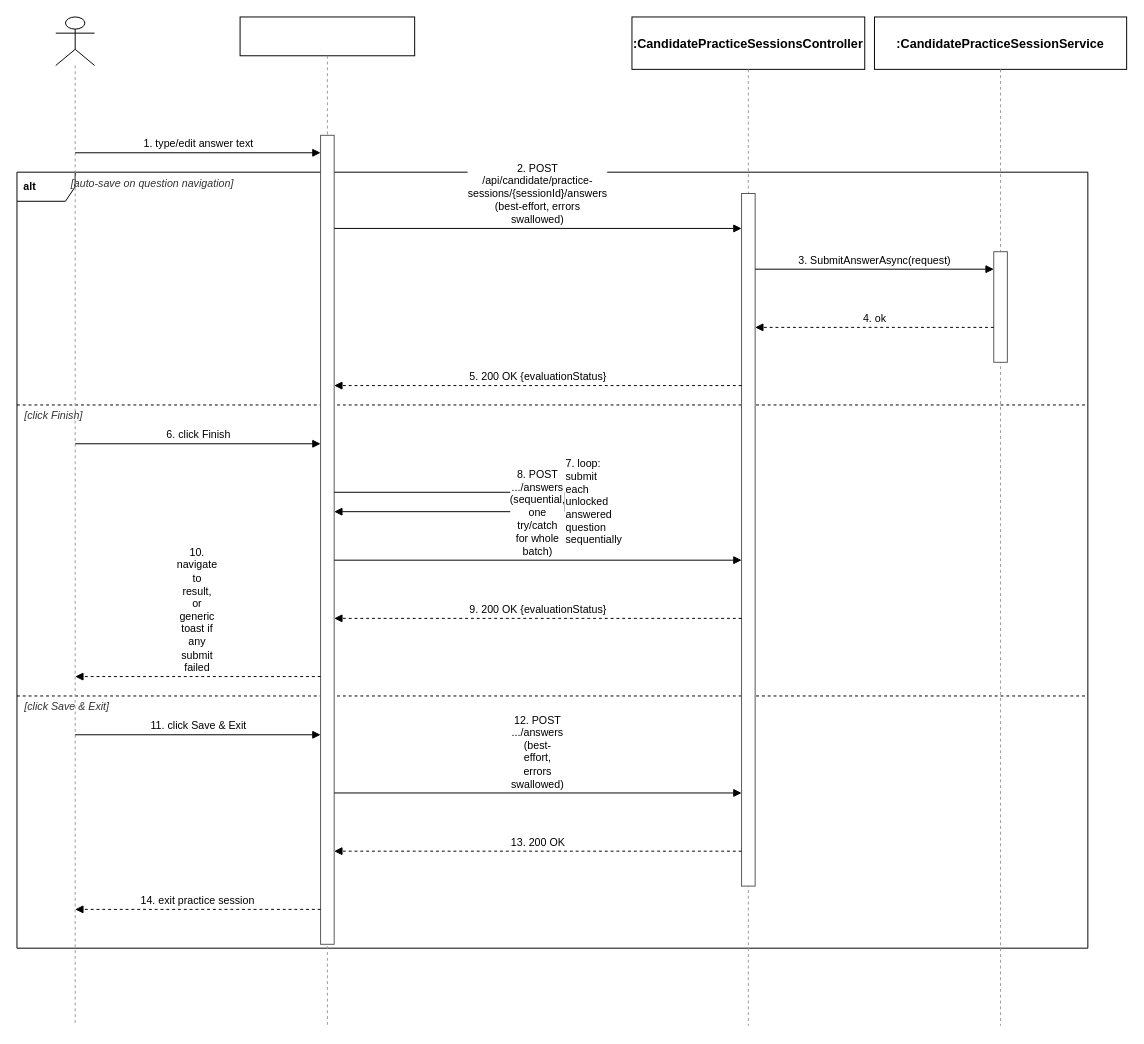
Image size: 1144x1044. Some labels were removed from this diagram. Each missing label, with the centre of its shape:
":PracticeSession" goes at [327,36].
"Candidate" goes at [75,40].
